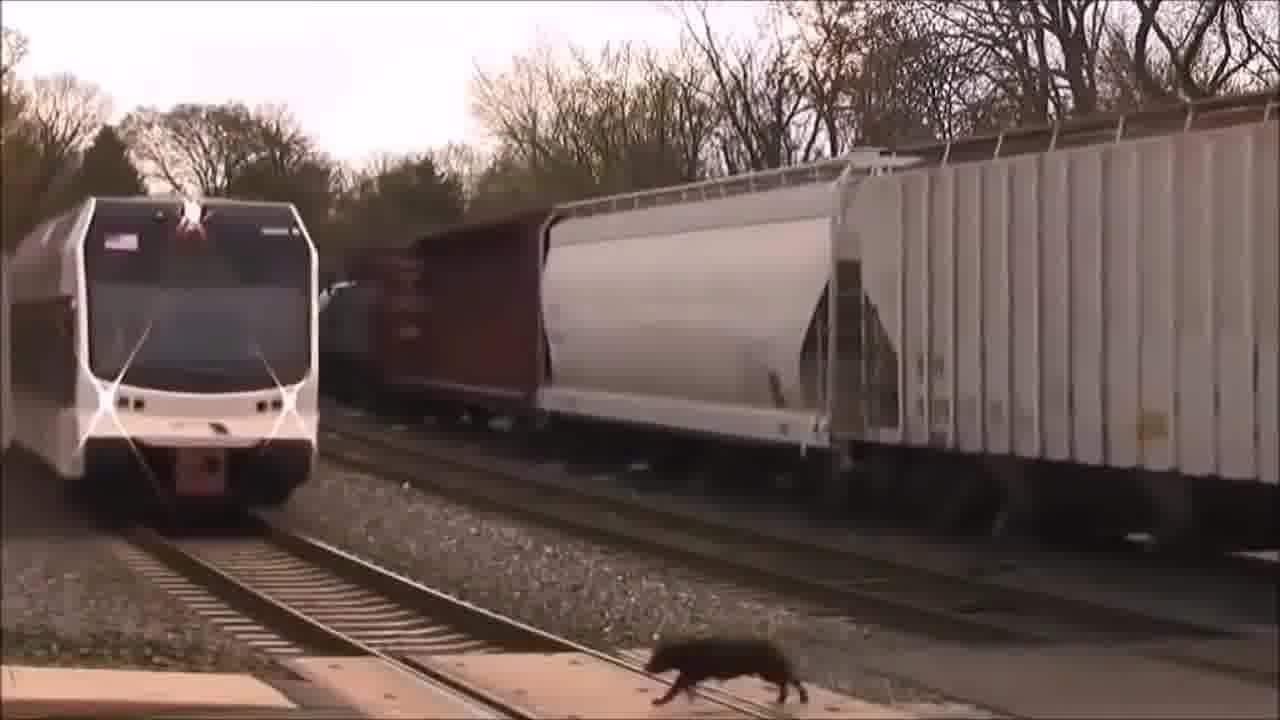crossing railway track: (611, 623, 819, 720)
